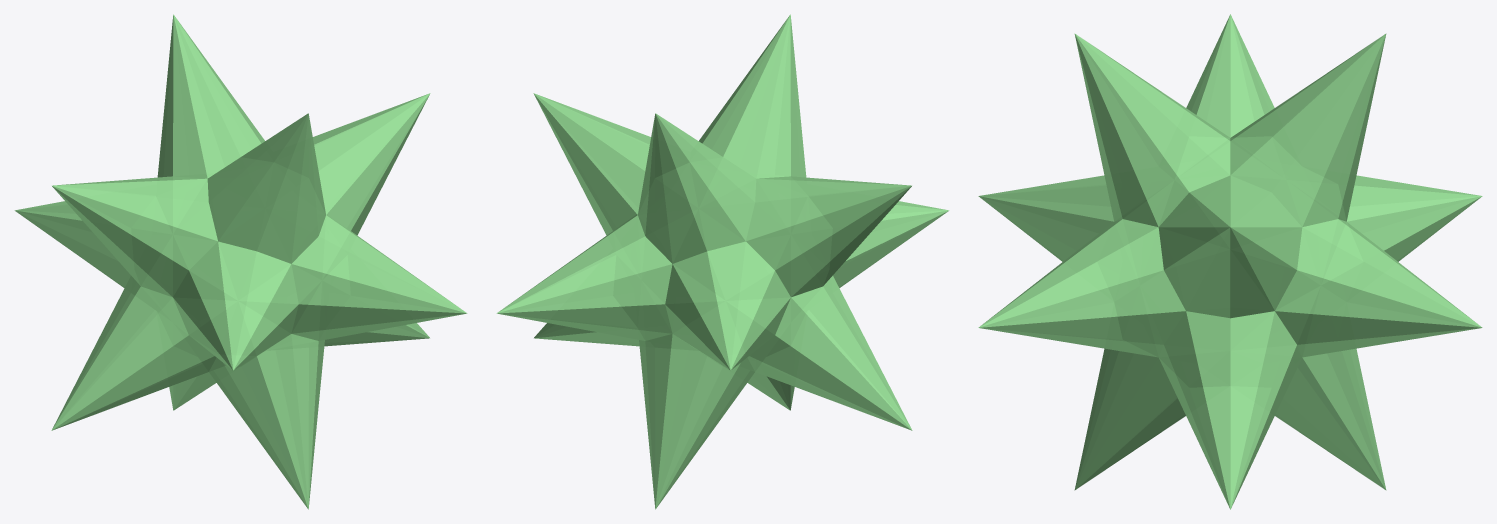
The model's file is SmallDitrigonalDodecacronicHexecontahedron.obj.
The picture shows the model from 3 angles, left to right: view 1: azimuth 30°, elevation 25°; view 2: azimuth 150°, elevation 25°; view 3: azimuth 270°, elevation 25°; orthographic projection. The views are drawn at different scales.
Bounding box in the file's own units: 7.85 × 7.85 × 7.85.
